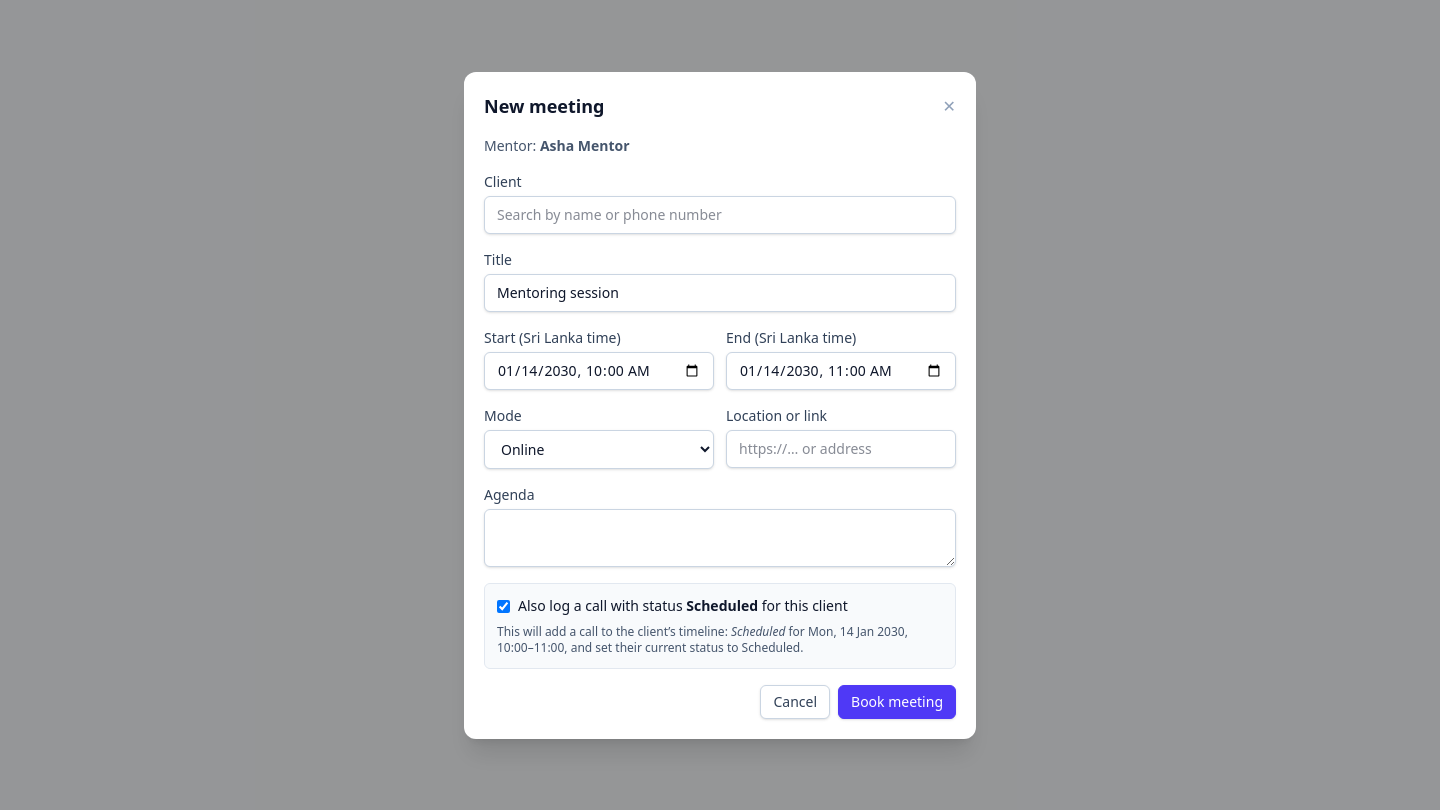
Test: New meeting modal › requires a client and a title before anything is sent
Clear the field labelled "Title". click: (720, 292)
box: [484,274,956,312]
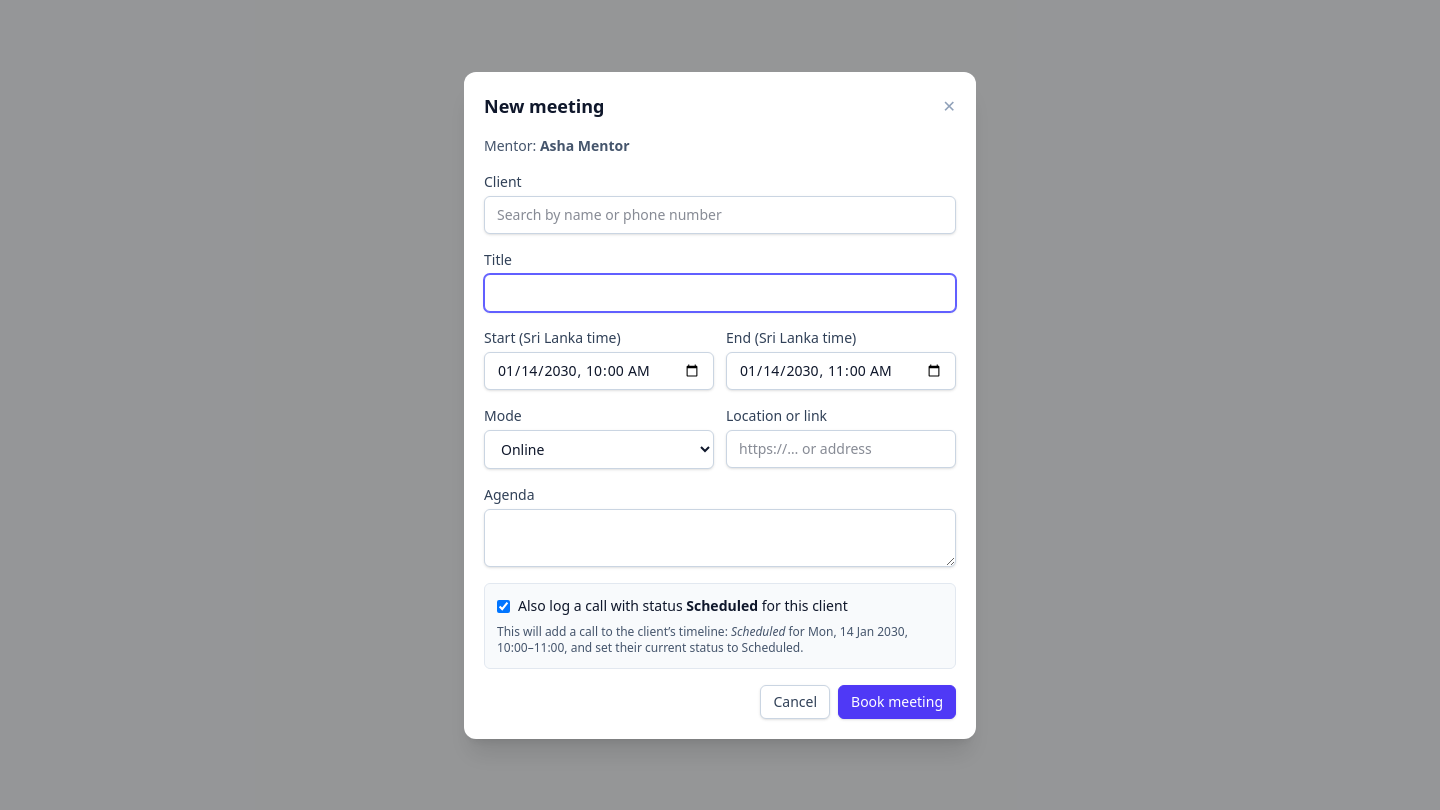
Click the button "Book meeting". click: (897, 702)
box: [838,684,956,718]
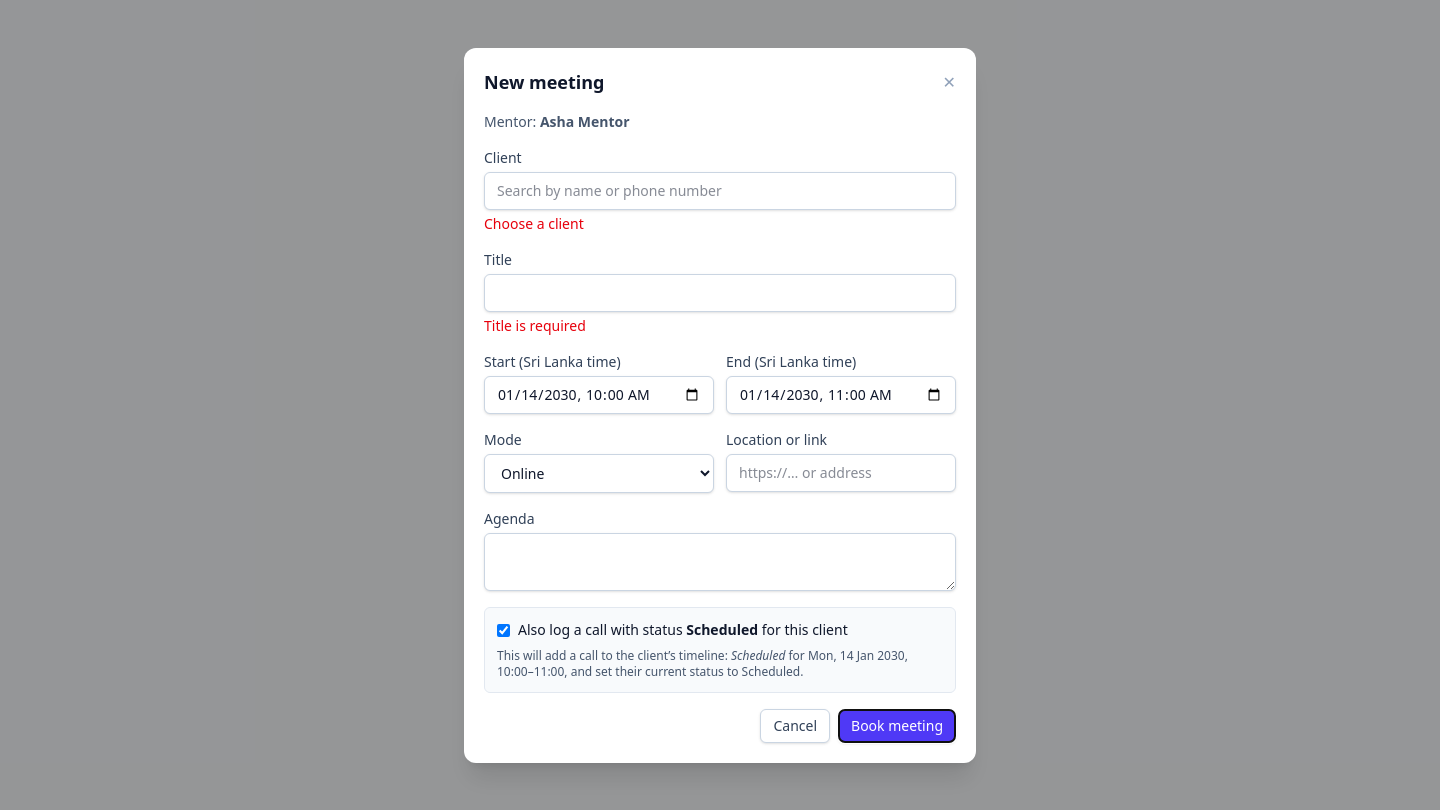
Check: the text "Choose a client" is shown, box [484,214,584,232]
Check: the text "Title is required" is shown, box [484,316,586,334]
